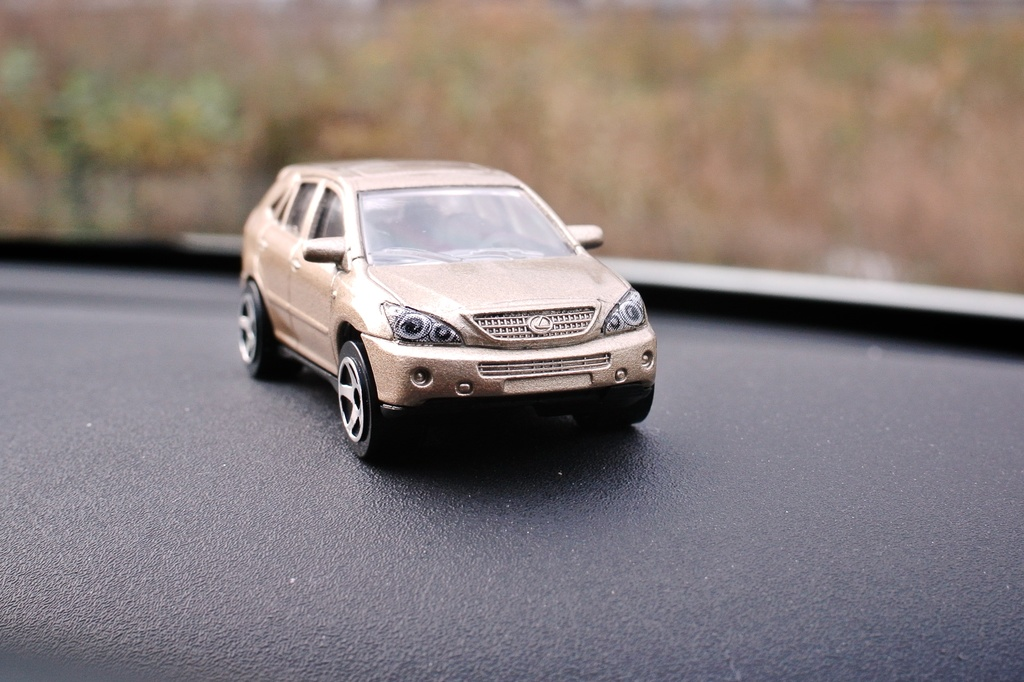Car: (234, 163, 664, 459)
